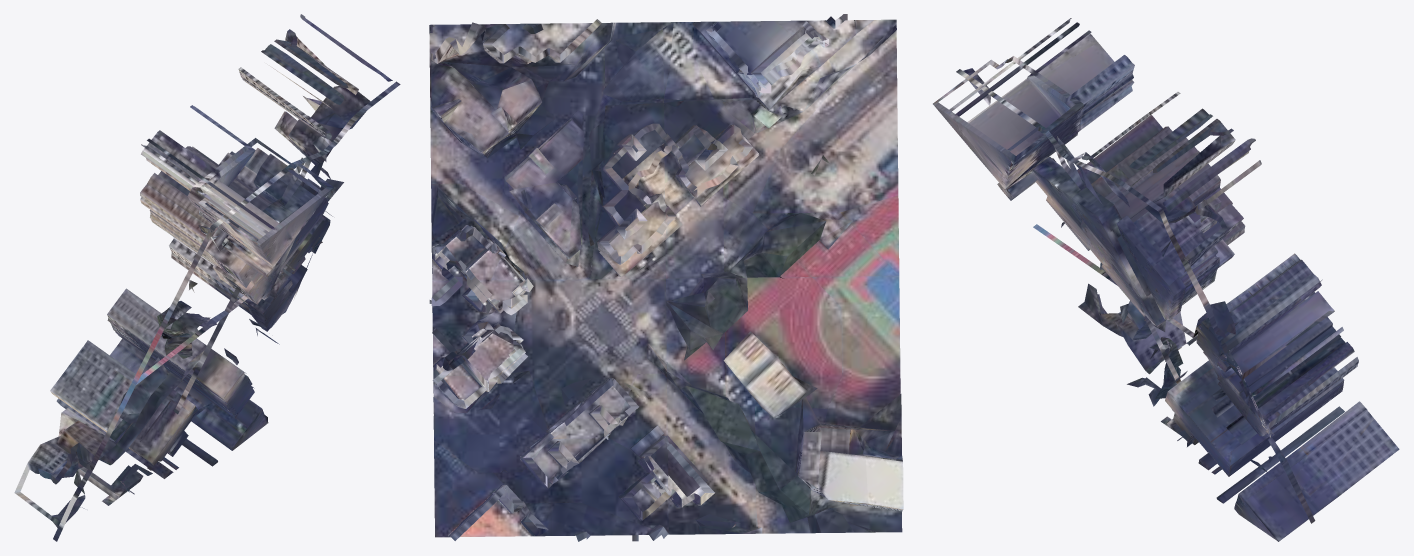
The picture shows the model from 3 angles, left to right: view 1: azimuth 30°, elevation 25°; view 2: azimuth 150°, elevation 25°; view 3: azimuth 270°, elevation 25°; orthographic projection. The views are drawn at different scales.
Size of the model in its own units: 161 by 163 by 167.
1 material, 1 textured.
